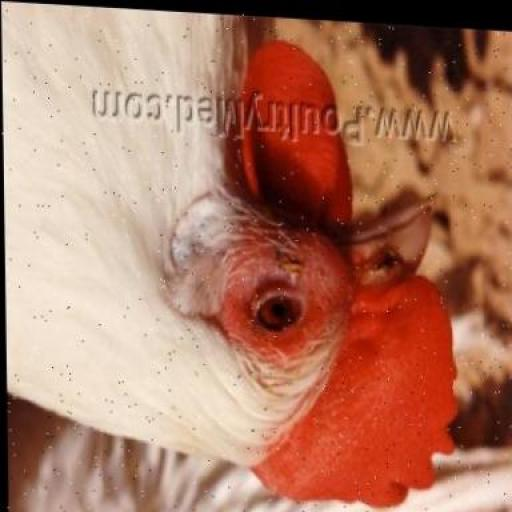disease: (229, 232, 342, 378)
